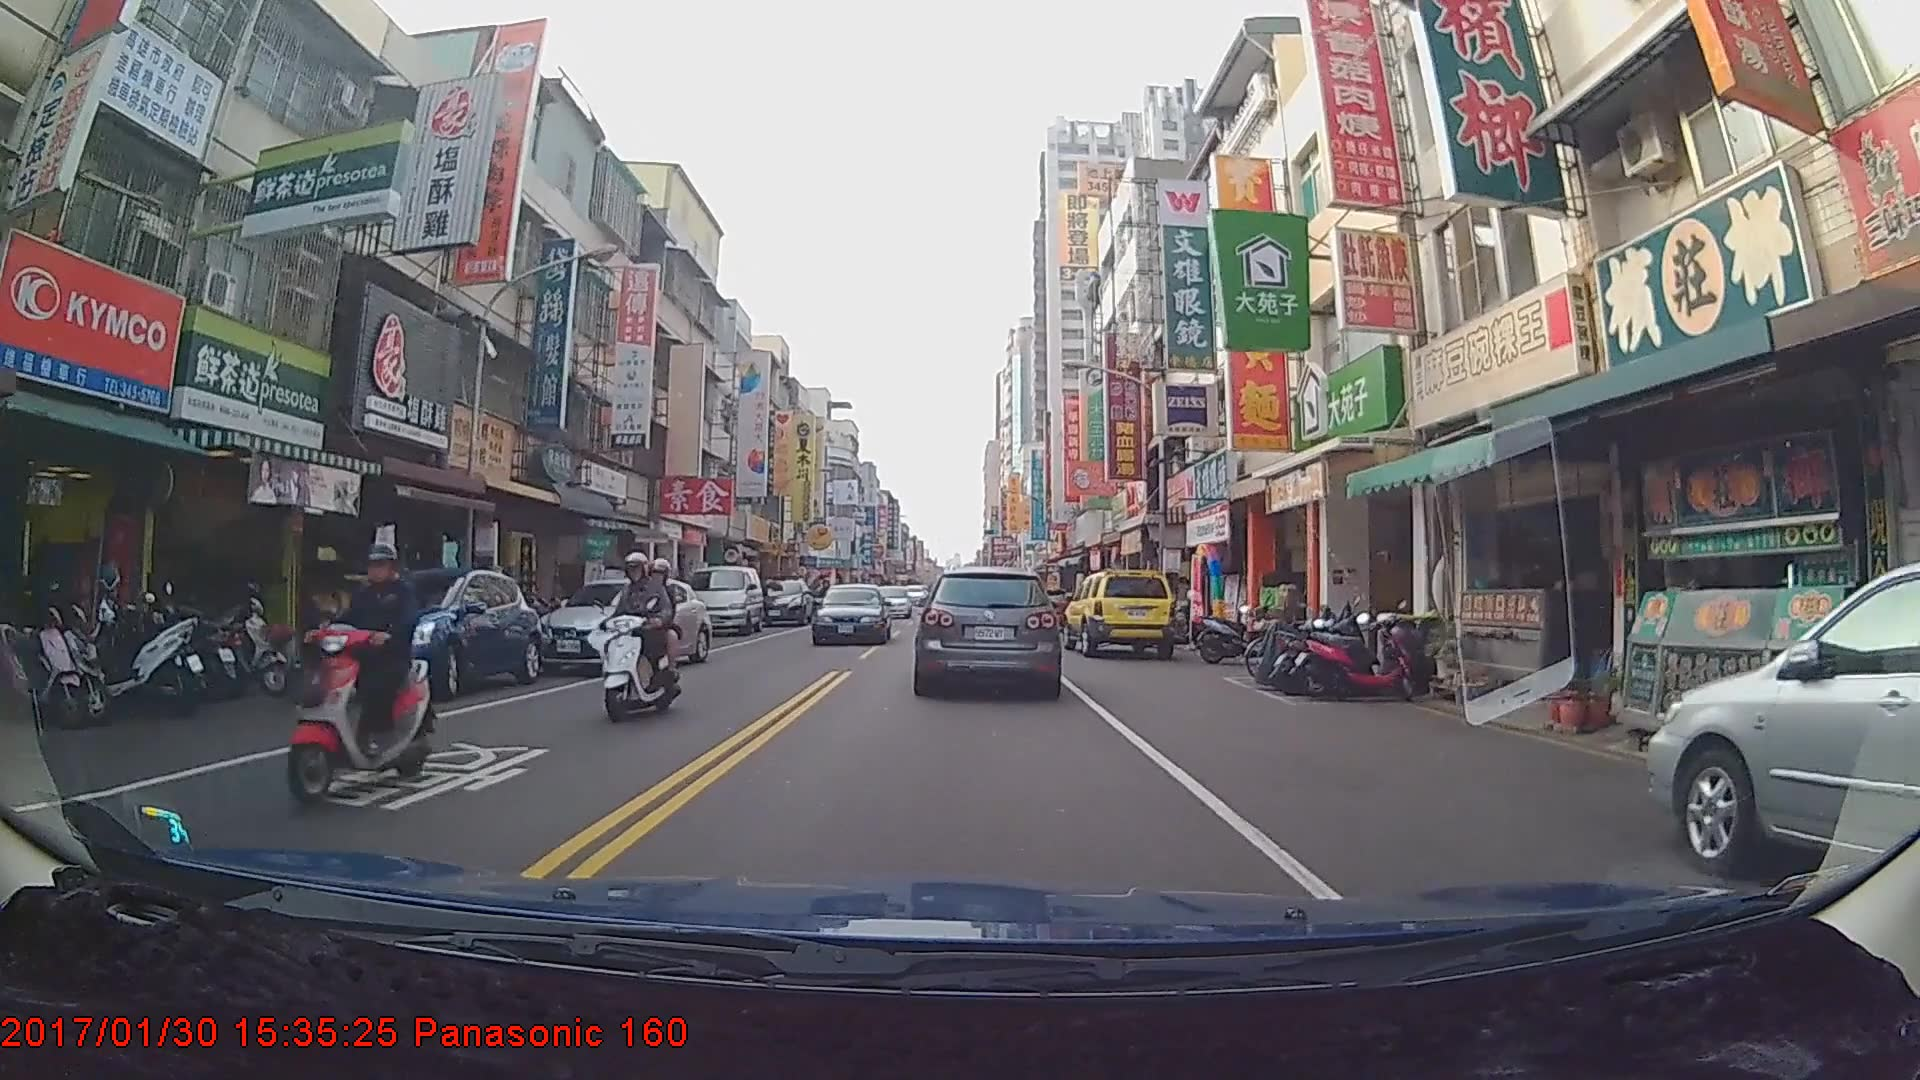rider: (282, 533, 440, 804), (591, 552, 687, 727)
vehicle: (1650, 554, 1920, 945), (306, 561, 541, 697), (916, 566, 1058, 694), (536, 582, 712, 678), (1061, 565, 1178, 657), (685, 563, 762, 635), (809, 582, 889, 644), (762, 574, 816, 628), (871, 585, 911, 618)
